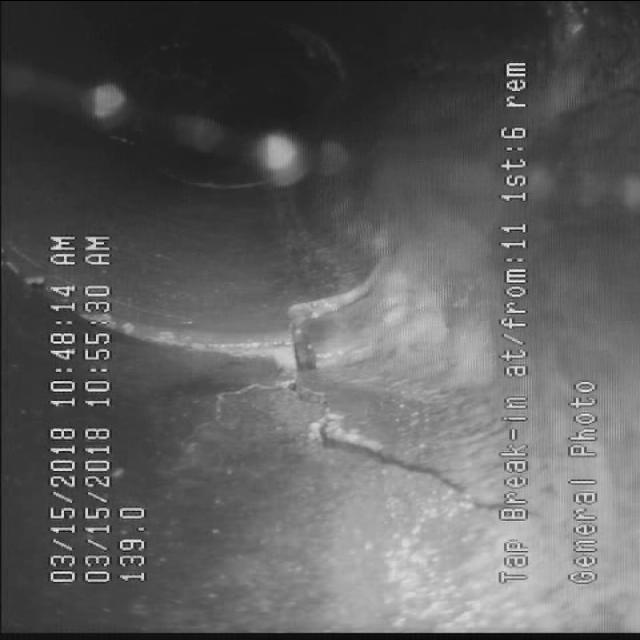Fracture: (165, 271, 478, 513)
